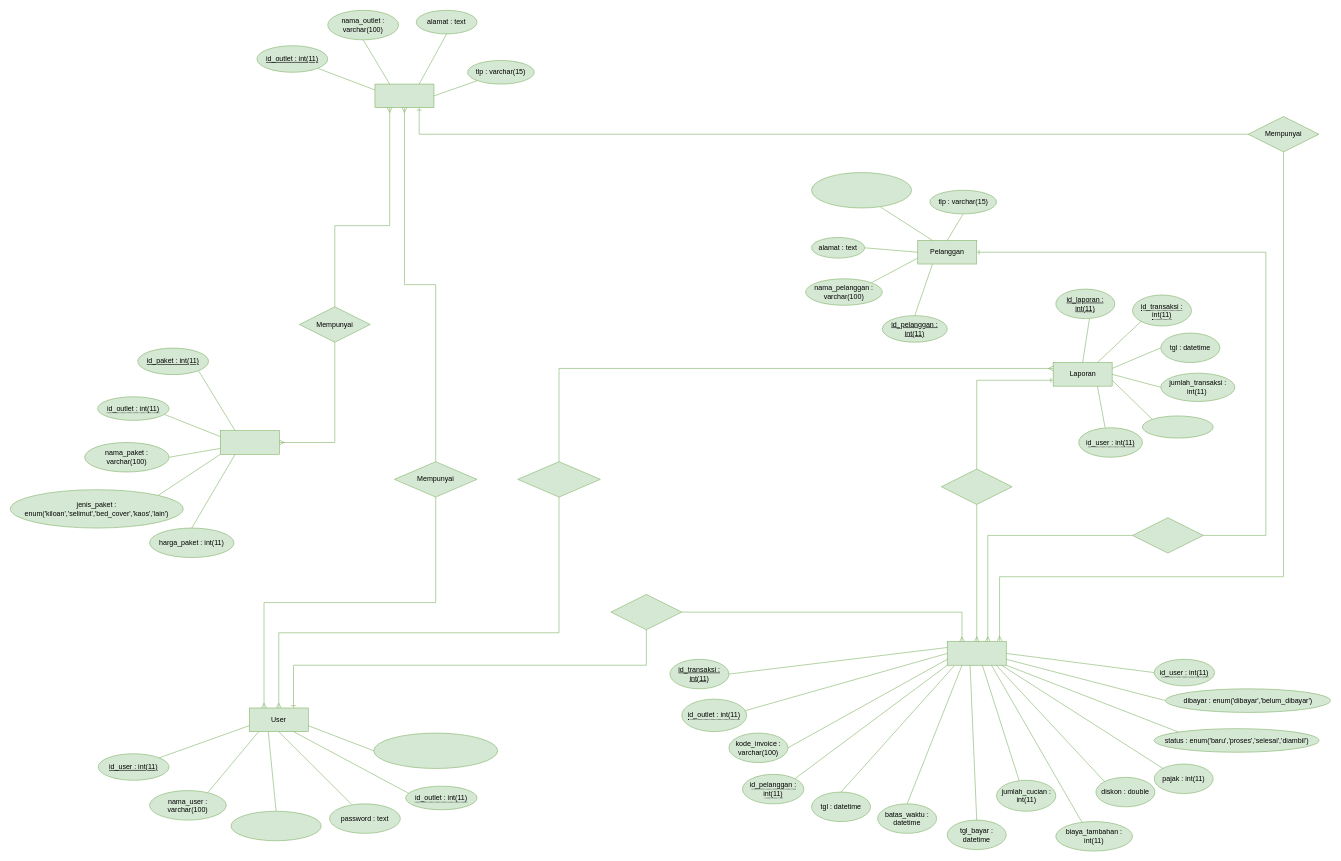
Some shapes in this 1341 by 861 pixel diagram are drawn without their labels. Each missing label, with the box of its shape:
jenis_kelamin : enum('Laki-laki','Perempuan'): (811, 172, 912, 208)
Melakukan: (1132, 517, 1203, 553)
Melihat: (517, 461, 600, 497)
Memproses: (610, 594, 682, 630)
Menghasilkan: (941, 468, 1012, 504)
Outlet: (374, 83, 434, 108)
Paket_cucian: (220, 430, 279, 454)
role : enum('admin','kasir','owner'): (373, 732, 498, 768)
total_hasil : int(11): (1142, 415, 1213, 438)
Transaksi: (947, 641, 1006, 665)
username : varchar(30): (230, 811, 321, 841)
